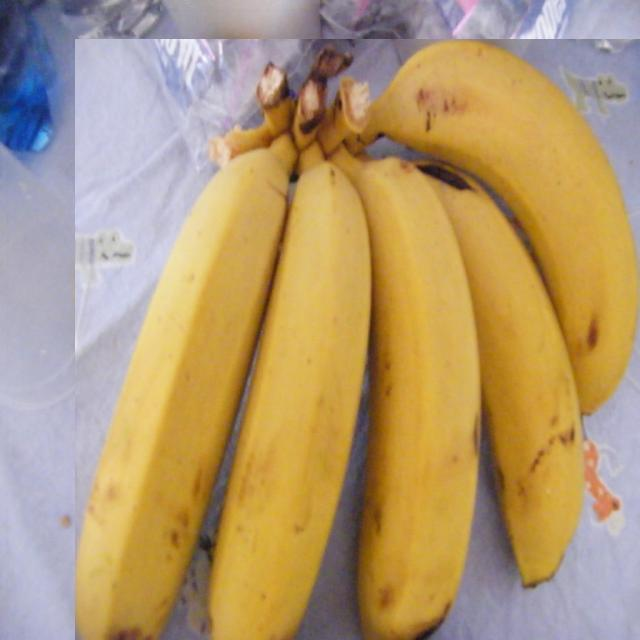Banana: (75, 39, 640, 640)
